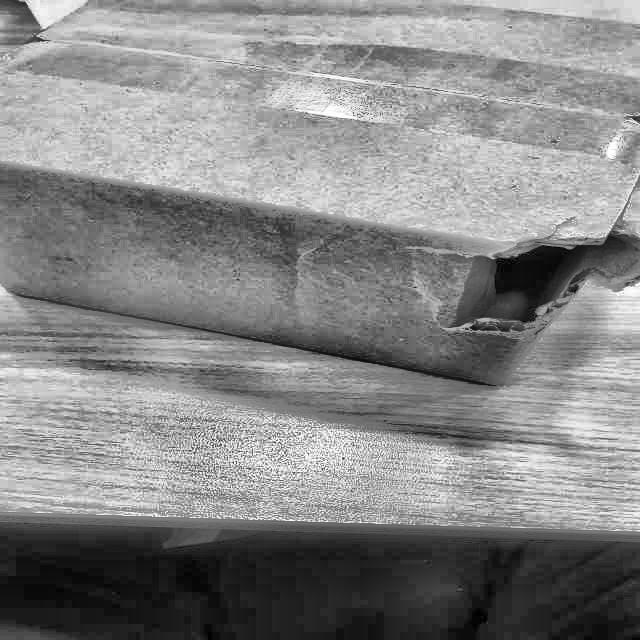box: (0, 0, 639, 402)
hole: (464, 235, 590, 334)
